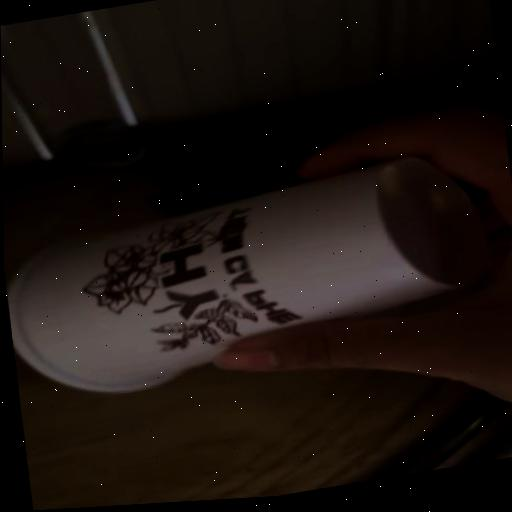ly_giay: (7, 158, 487, 391)
